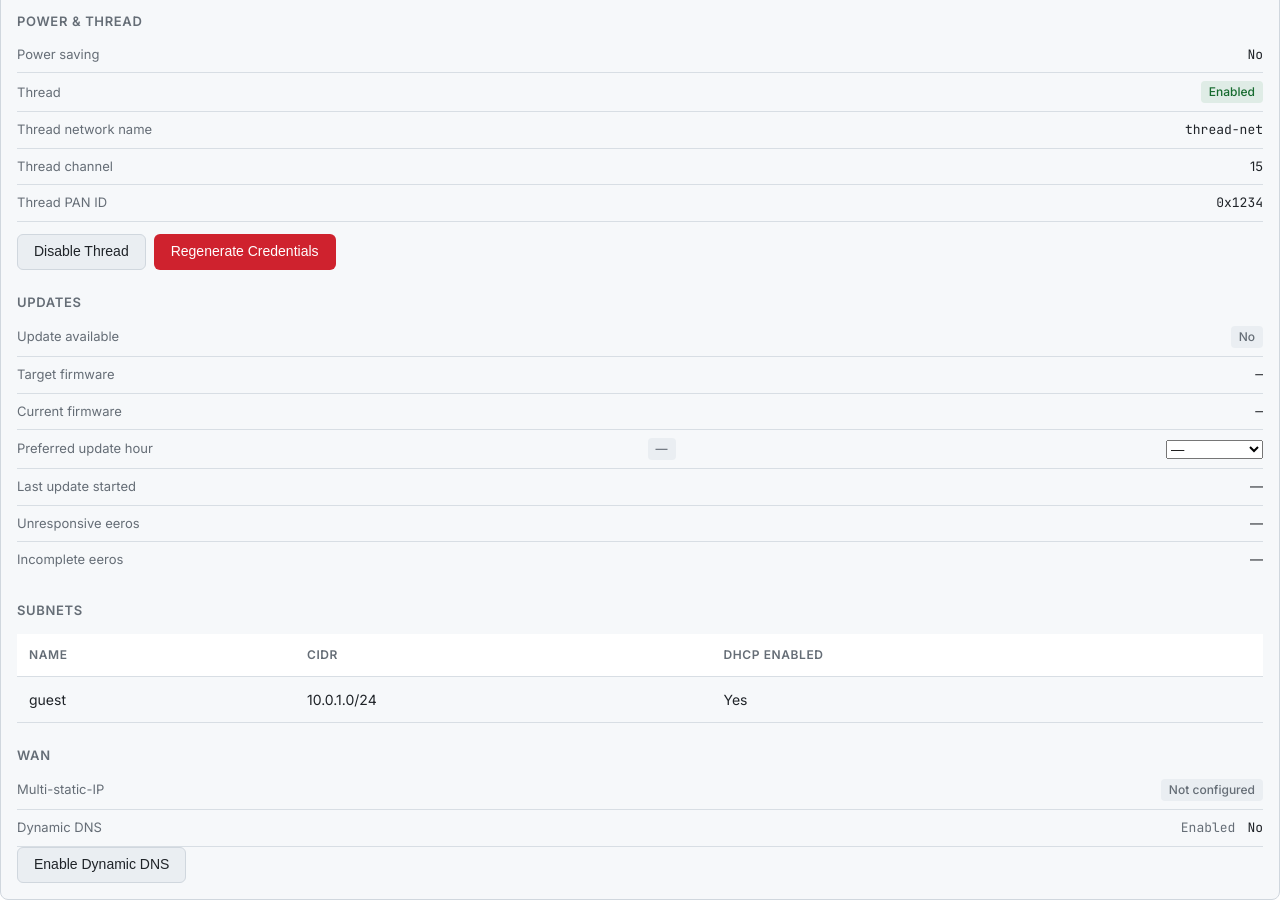
Test case: SecurityWanCard › a successful toggle confirmation re-fetches the security/WAN state
(page scrolled)
Click the button "Enable Dynamic DNS": x=102, y=864 left=17, top=846, right=186, bottom=882
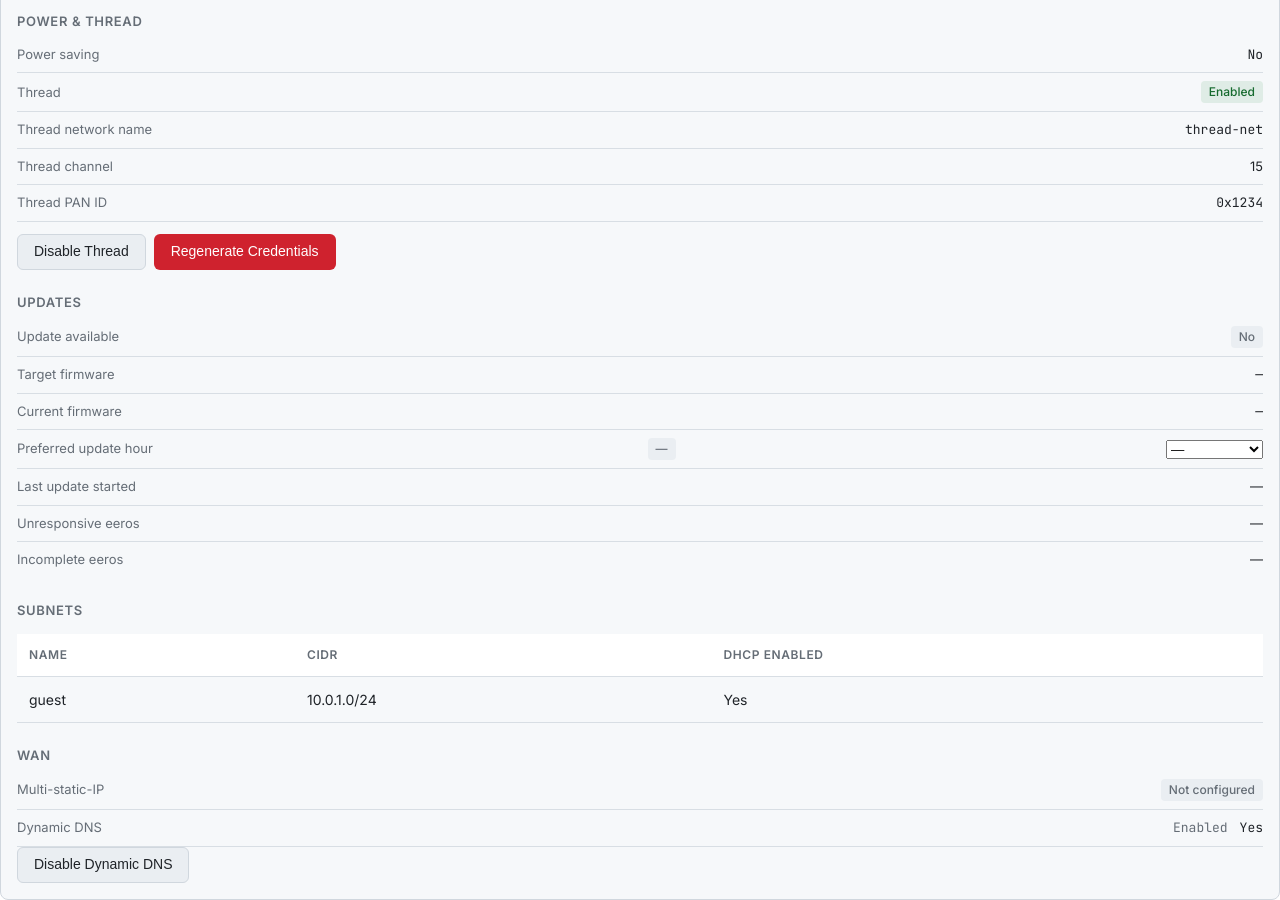
Now the button "Disable Dynamic DNS" is shown, box left=17, top=846, right=190, bottom=882
